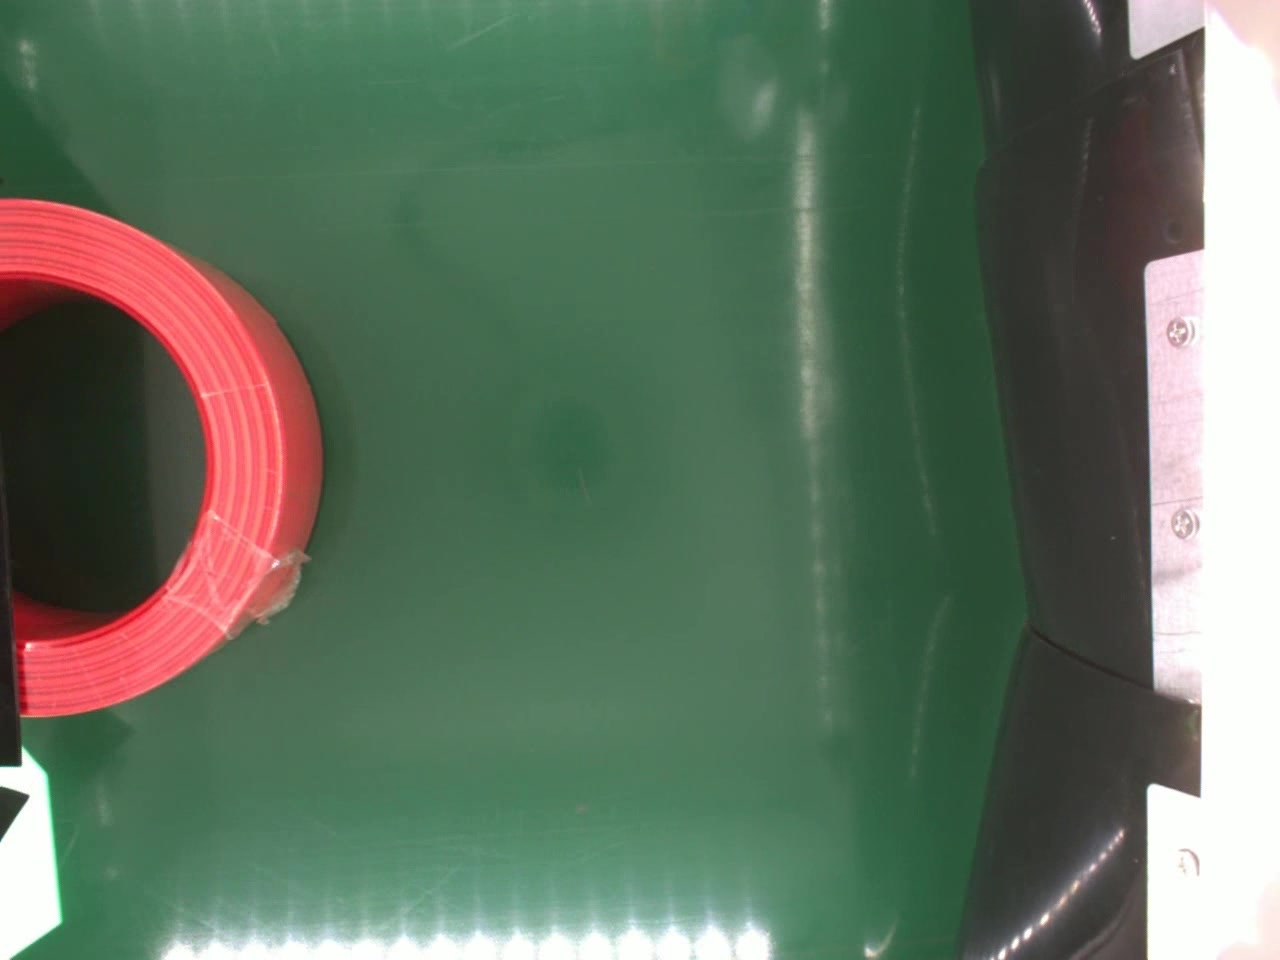red: (0, 192, 325, 721)
